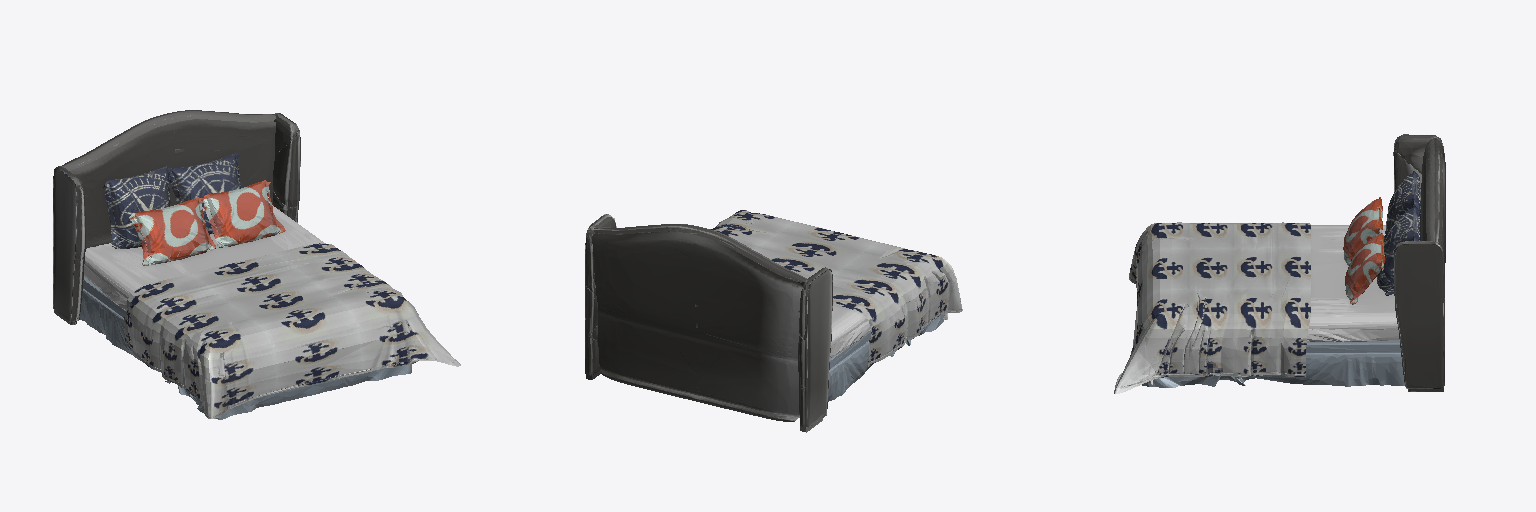
3 views of the same model, side by side, from view 1: azimuth 30°, elevation 25°; view 2: azimuth 150°, elevation 25°; view 3: azimuth 270°, elevation 25° (orthographic).
Parts seen in each view (by area): view 1: solid_001, glass_001, solid_006, solid_004, solid_005, solid_003; view 2: glass_001, solid_001, solid_003, solid_004; view 3: solid_001, glass_001, solid_004, solid_003, solid_006, solid_005.
Part boxes in pixels (x1,y1,x2,y2): solid_001: (124,243,460,418); glass_001: (53,110,300,324); solid_006: (129,180,285,265); solid_004: (84,205,415,363); solid_005: (103,153,240,248); solid_003: (80,276,412,419); glass_001: (585,214,832,432); solid_001: (711,210,962,366); solid_003: (828,315,943,401); solid_004: (830,304,947,357); solid_001: (1114,222,1310,393); glass_001: (1393,134,1445,391); solid_004: (1149,225,1399,384); solid_003: (1142,340,1404,387); solid_006: (1343,197,1384,304); solid_005: (1377,171,1420,295).
Bounding box in the file's own units: 1.58 × 1.07 × 1.85.
Materials: 1 (1 with a texture image).